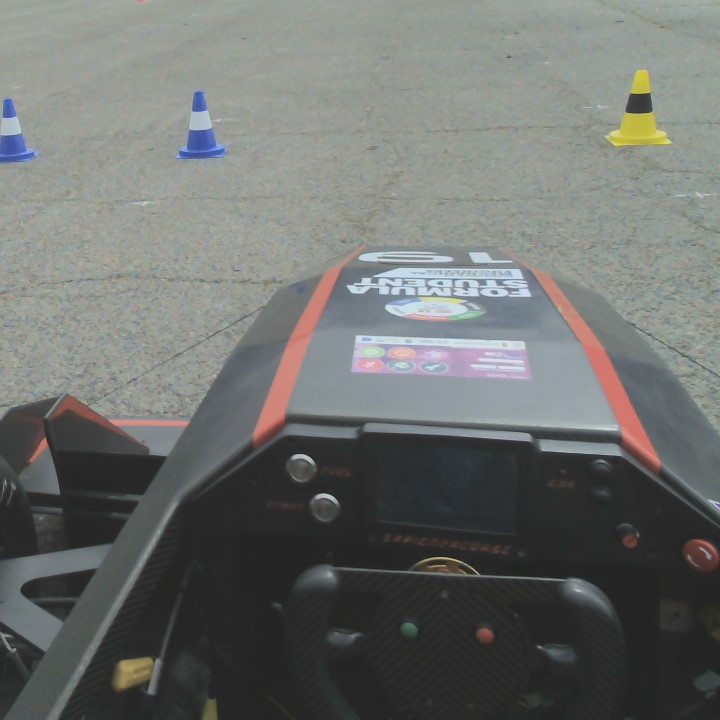cone: (179, 91, 224, 159), (1, 96, 38, 163)
